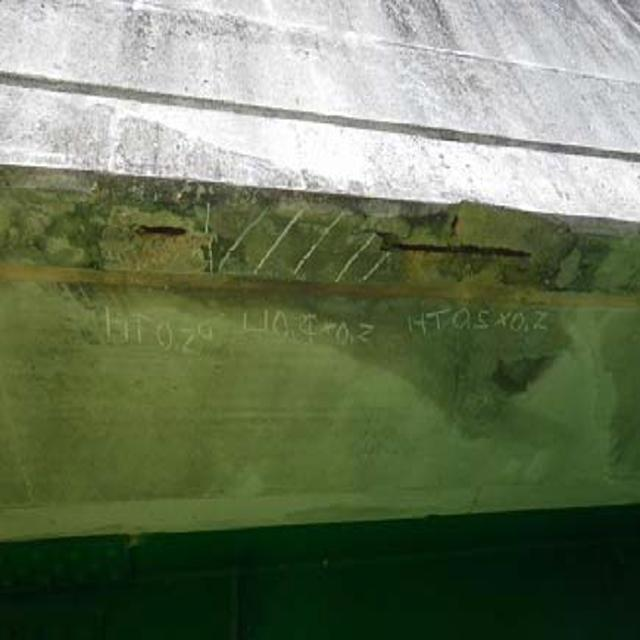spalling: (367, 187, 602, 300), (91, 195, 226, 282)
